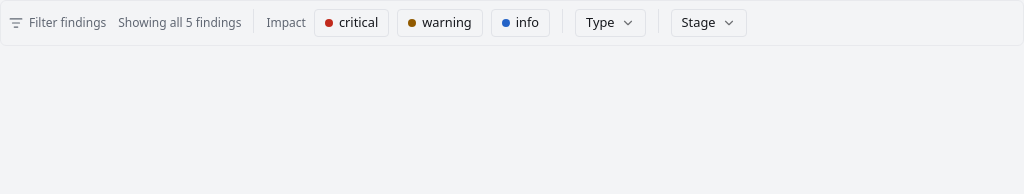
Test case: type options live in an on-demand dropdown, including PLAN-tagged types
Click the button with aria-label "filter by type" at (610, 23), box [575,9,646,37]
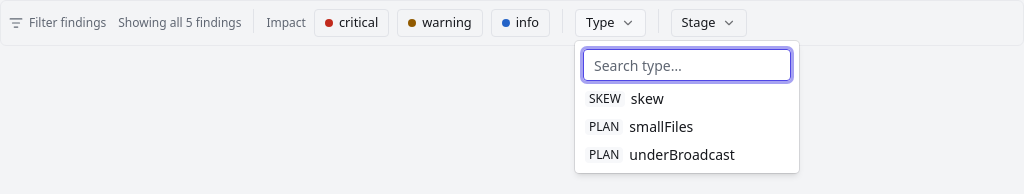
expect the menu item with aria-label "Filter by type: smallFiles" is shown: met, box [585,117,693,136]
expect the menu item with aria-label "Filter by type: underBroadcast" is shown: met, box [585,145,735,164]
